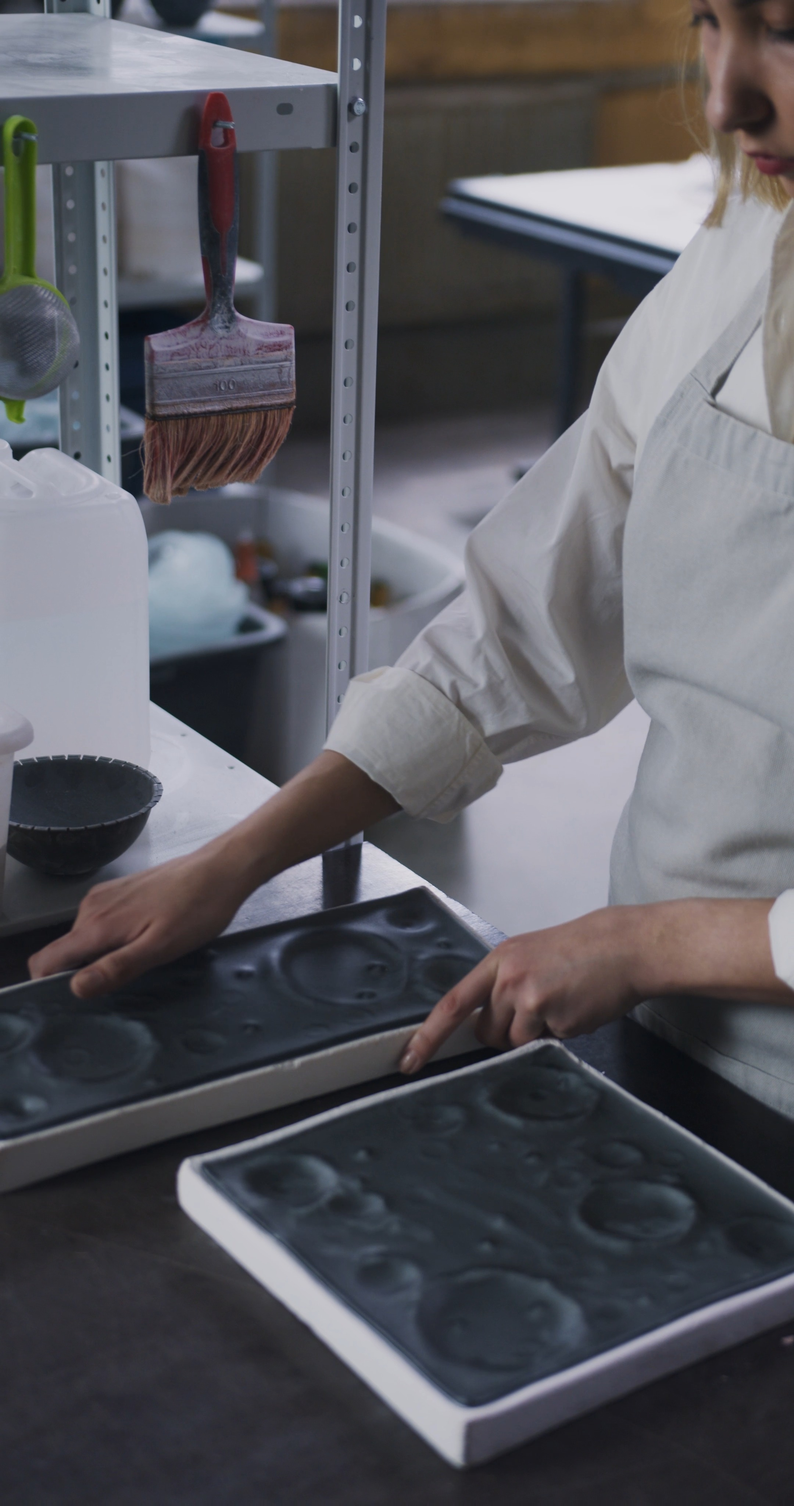No-gloves: (29, 816, 272, 1025), (412, 860, 640, 1082)
